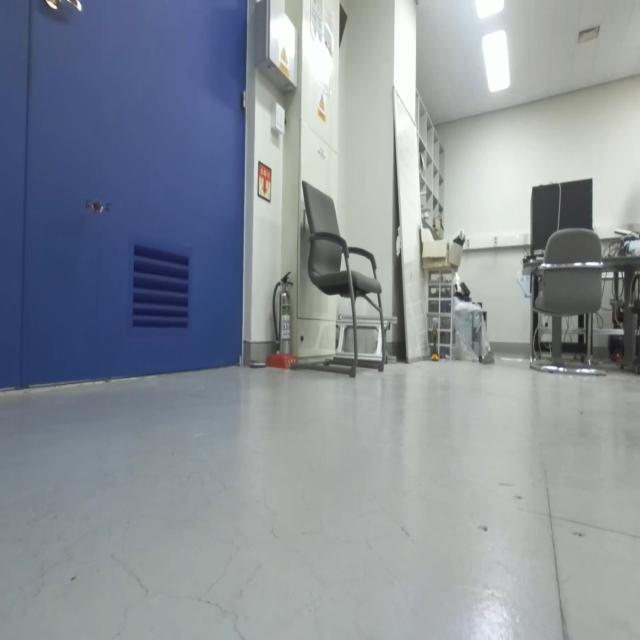crazyflie: (80, 190, 117, 228)
